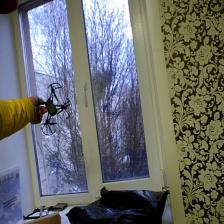drone: (30, 76, 76, 141)
